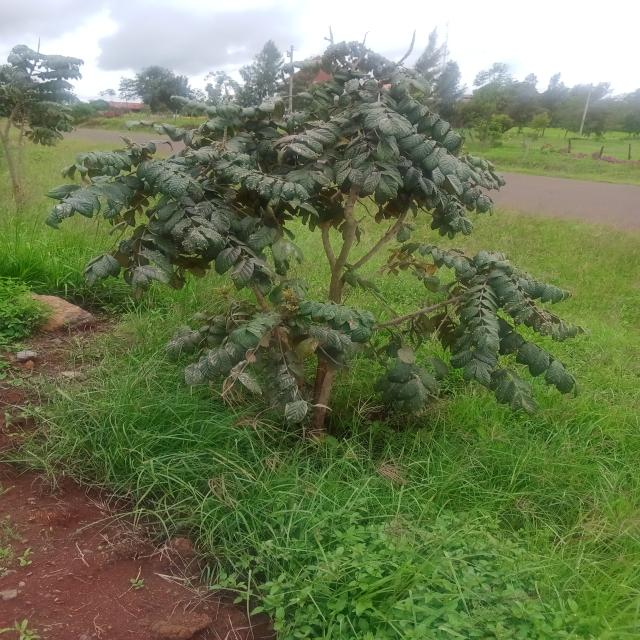Polyscias Kikuyensis: (58, 22, 609, 502)
